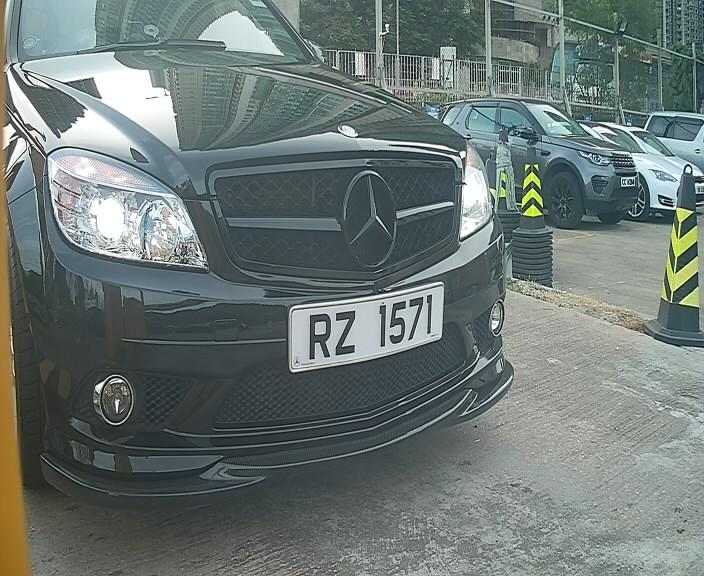License Plate: (280, 276, 447, 384)
